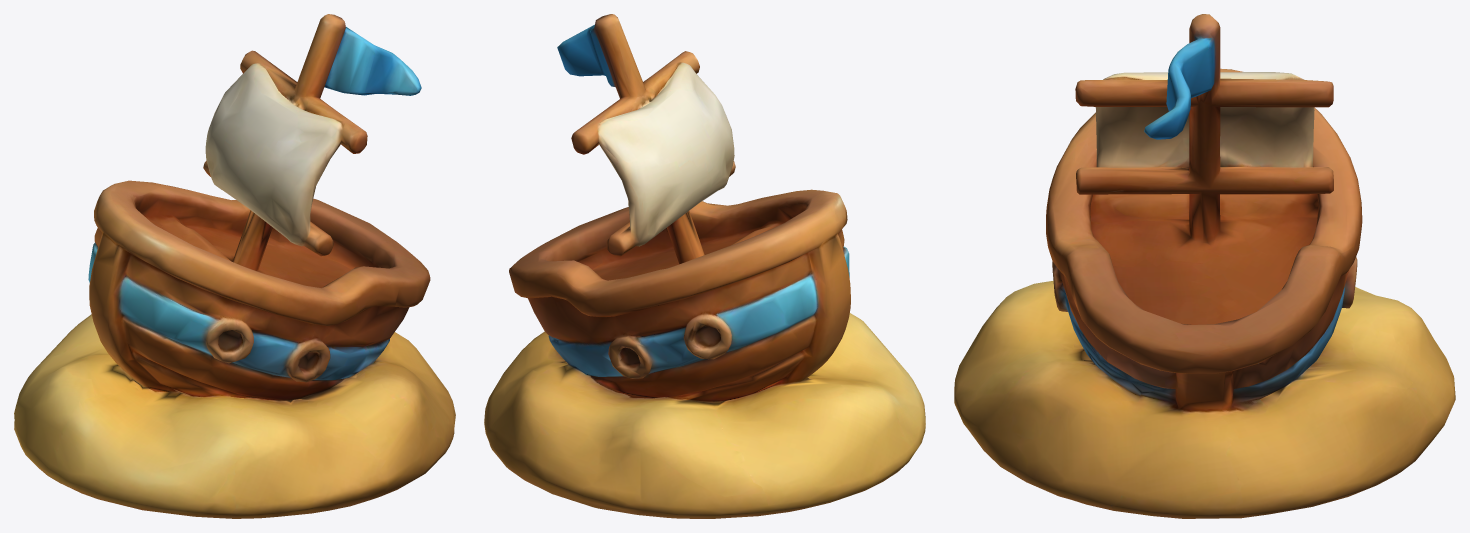
The model's file is shipwreck.glb.
3 views of the same model, side by side, from view 1: azimuth 30°, elevation 25°; view 2: azimuth 150°, elevation 25°; view 3: azimuth 270°, elevation 25° (orthographic). The views are drawn at different scales.
Visible parts, largest first — view 1: tripo_node_e71d59c1-a9a5-4b96-ba9e-a41cca913e29; view 2: tripo_node_e71d59c1-a9a5-4b96-ba9e-a41cca913e29; view 3: tripo_node_e71d59c1-a9a5-4b96-ba9e-a41cca913e29.
Part boxes in pixels (x1,y1,x2,y2): tripo_node_e71d59c1-a9a5-4b96-ba9e-a41cca913e29: [14, 14, 455, 518]; tripo_node_e71d59c1-a9a5-4b96-ba9e-a41cca913e29: [484, 14, 925, 518]; tripo_node_e71d59c1-a9a5-4b96-ba9e-a41cca913e29: [954, 14, 1455, 518].
Bounding box in the file's own units: 0.9983 × 0.9956 × 0.9851.
Materials: 1 (1 with a texture image).
